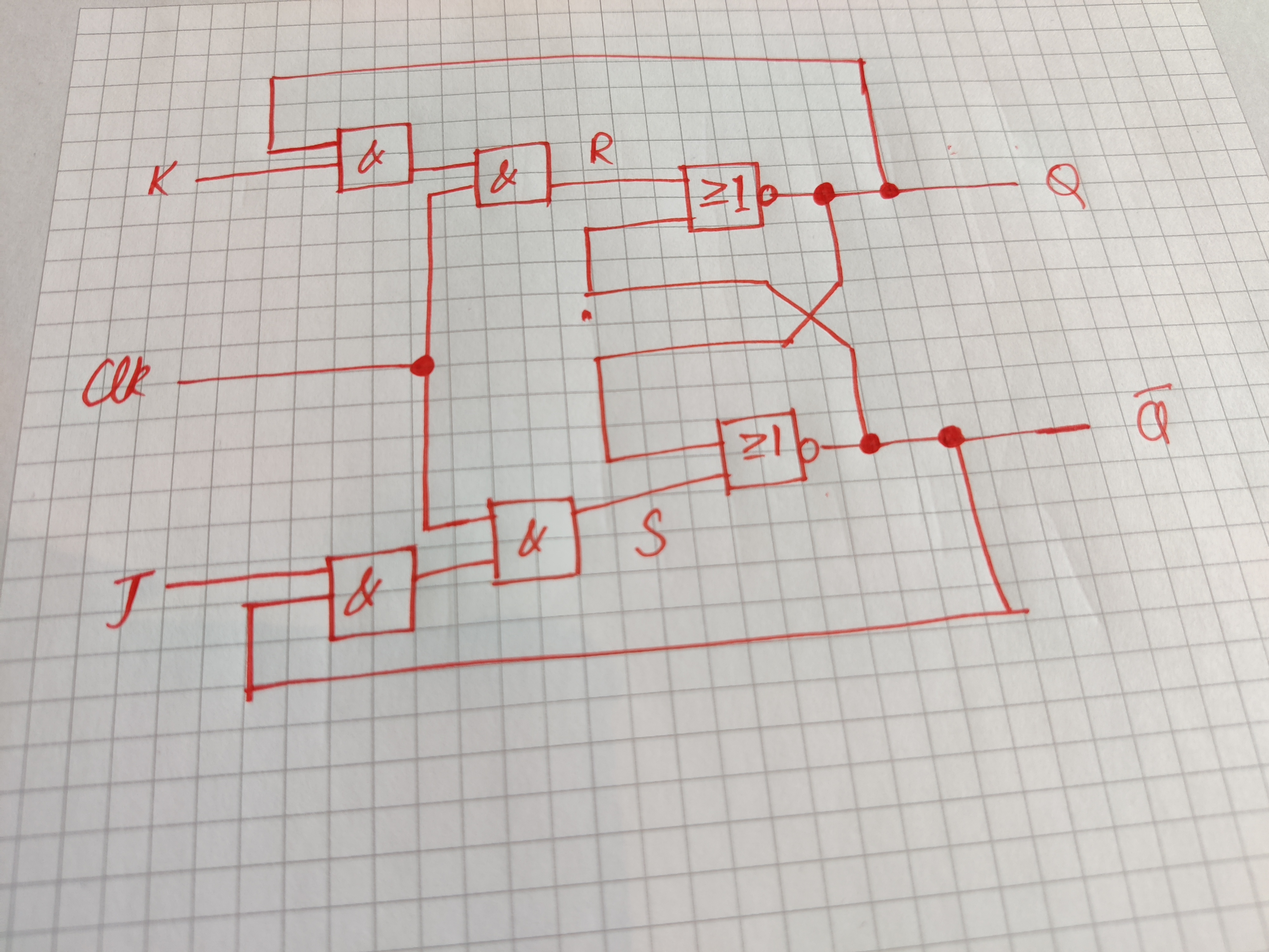and: (318, 540, 424, 646), (483, 493, 585, 588), (465, 138, 557, 213), (331, 121, 417, 197)
crossover: (799, 305, 822, 327)
junction: (408, 352, 437, 380), (856, 429, 884, 457), (810, 180, 838, 208), (937, 424, 966, 451), (998, 602, 1034, 620), (876, 179, 902, 202), (240, 678, 261, 703), (238, 597, 260, 617), (842, 340, 862, 359), (776, 334, 797, 352), (263, 69, 282, 88), (832, 274, 850, 292), (600, 452, 617, 469), (418, 519, 435, 536), (757, 274, 774, 291), (579, 222, 594, 237), (582, 286, 597, 301), (590, 352, 605, 367), (854, 54, 868, 68), (263, 145, 276, 158), (424, 190, 435, 201)
nor: (712, 406, 822, 500), (675, 160, 782, 235)
terminal: (1078, 416, 1098, 435), (170, 374, 190, 392), (161, 577, 178, 594), (190, 172, 204, 188), (1010, 177, 1025, 191)
text: (77, 351, 155, 411), (101, 566, 158, 634), (1130, 381, 1178, 446), (1042, 159, 1088, 209), (632, 504, 670, 562), (145, 159, 180, 198), (587, 128, 617, 168)
